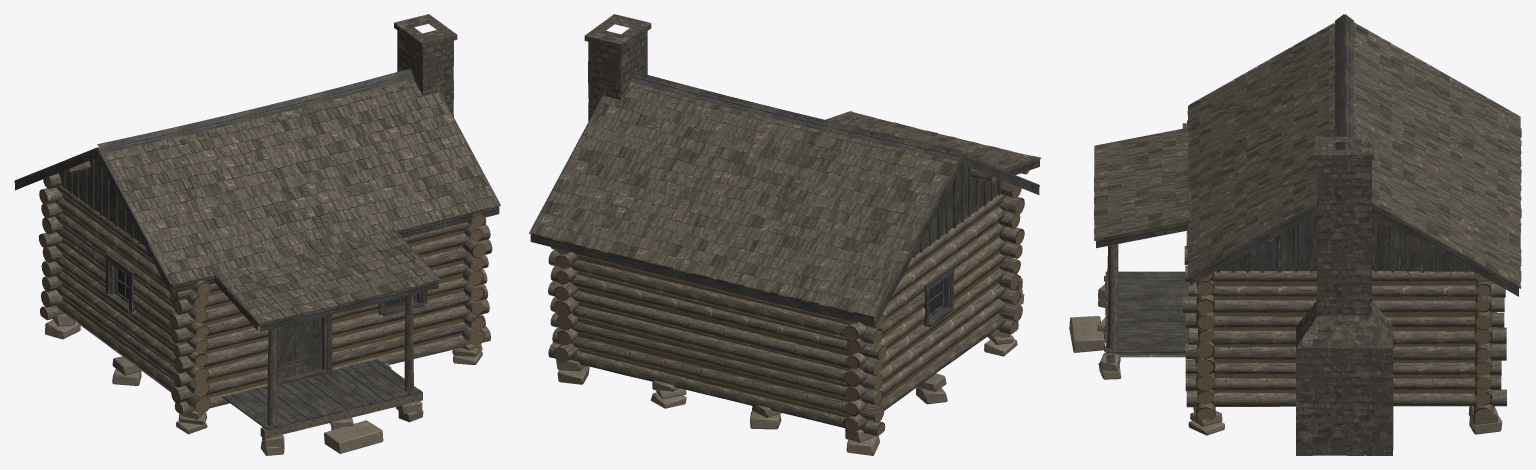
File: cabin.glb
The picture shows the model from 3 angles, left to right: view 1: azimuth 30°, elevation 25°; view 2: azimuth 150°, elevation 25°; view 3: azimuth 270°, elevation 25°; orthographic projection. The views are drawn at different scales.
Parts seen in each view (by area): view 1: Cabin_Roof_mesh, Cabin_Walls_mesh, Cabin_Porch_mesh, Cabin_Chimney_mesh, Cabin_Windows_mesh, Cabin_Foundation_mesh, Cabin_PorchStones_mesh, Cabin_Door_mesh; view 2: Cabin_Roof_mesh, Cabin_Walls_mesh, Cabin_Chimney_mesh, Cabin_Foundation_mesh, Cabin_Windows_mesh; view 3: Cabin_Roof_mesh, Cabin_Walls_mesh, Cabin_Chimney_mesh, Cabin_Porch_mesh, Cabin_PorchStones_mesh, Cabin_Foundation_mesh.
Boxes of the visible parts, x1,y1,x2,y2 form: Cabin_Roof_mesh: (14, 68, 500, 331); Cabin_Walls_mesh: (39, 158, 492, 414); Cabin_Porch_mesh: (223, 294, 422, 438); Cabin_Chimney_mesh: (394, 14, 457, 116); Cabin_Windows_mesh: (105, 252, 428, 385); Cabin_Foundation_mesh: (45, 314, 482, 434); Cabin_PorchStones_mesh: (260, 401, 423, 455); Cabin_Door_mesh: (278, 317, 322, 379); Cabin_Roof_mesh: (529, 71, 1040, 325); Cabin_Walls_mesh: (548, 165, 1024, 435); Cabin_Chimney_mesh: (584, 14, 651, 121); Cabin_Foundation_mesh: (556, 329, 1017, 455); Cabin_Windows_mesh: (923, 264, 954, 326); Cabin_Roof_mesh: (1094, 14, 1521, 296); Cabin_Walls_mesh: (1182, 123, 1506, 419); Cabin_Chimney_mesh: (1296, 136, 1393, 455); Cabin_Porch_mesh: (1104, 244, 1188, 363); Cabin_PorchStones_mesh: (1069, 284, 1120, 379); Cabin_Foundation_mesh: (1188, 312, 1502, 435).
Bounding box in the file's own units: 7.36 × 5.55 × 7.65.
10 materials, 8 textured.
